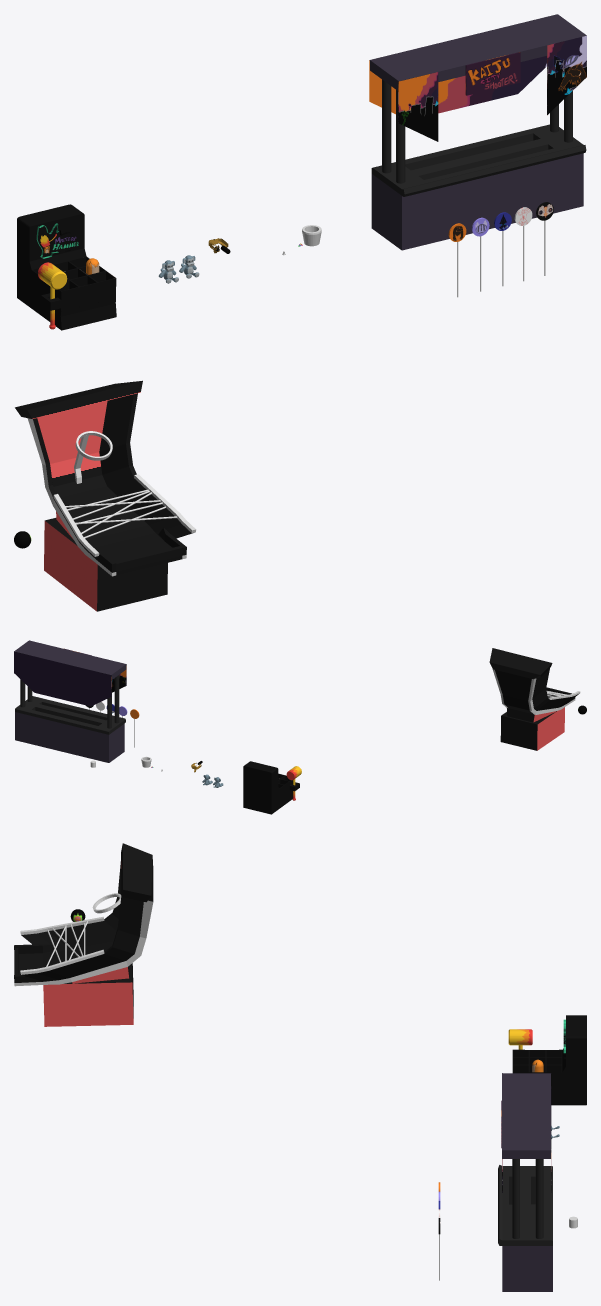
File: MOLE.fbx
The picture shows the model from 3 angles, top to bottom: view 1: azimuth 30°, elevation 25°; view 2: azimuth 150°, elevation 25°; view 3: azimuth 270°, elevation 25°; orthographic projection. The views are drawn at different scales.
Parts seen in each view (by area): view 1: Cube.011, Cube.024, Cube.010, Cube.013, Cube.025, Plane.003, Plane, Plane.001, Cube.014, Cube.026, Cylinder.005; view 2: Cube.011, Cube.024, Plane.003, Cube.010, Cube.013, Cube.026, Cylinder.004; view 3: Cube.024, Cube.011, Cube.013, Cube.025, Cube.010, Cube.026, Cylinder.002, Cylinder.003.
Part boxes in pixels (bbox=[...]): Cube.011: bbox=[371, 124, 586, 250]; Cube.024: bbox=[15, 380, 184, 611]; Cube.010: bbox=[17, 204, 116, 330]; Cube.013: bbox=[370, 14, 586, 90]; Cube.025: bbox=[99, 388, 192, 559]; Plane.003: bbox=[369, 56, 546, 114]; Plane: bbox=[398, 72, 438, 141]; Plane.001: bbox=[547, 35, 586, 115]; Cube.014: bbox=[465, 52, 520, 95]; Cube.026: bbox=[27, 418, 116, 576]; Cylinder.005: bbox=[382, 79, 391, 173]; Cube.011: bbox=[15, 696, 125, 762]; Cube.024: bbox=[489, 648, 571, 750]; Plane.003: bbox=[14, 651, 111, 706]; Cube.010: bbox=[243, 761, 299, 814]; Cube.013: bbox=[14, 640, 126, 679]; Cube.026: bbox=[528, 668, 579, 714]; Cylinder.004: bbox=[114, 675, 119, 723]; Cube.024: bbox=[14, 843, 153, 1026]; Cube.011: bbox=[498, 1165, 552, 1291]; Cube.013: bbox=[502, 1073, 550, 1158]; Cube.025: bbox=[14, 897, 153, 986]; Cube.010: bbox=[512, 1015, 586, 1105]; Cube.026: bbox=[14, 861, 121, 953]; Cylinder.002: bbox=[535, 1159, 543, 1238]; Cylinder.003: bbox=[512, 1159, 519, 1238].
Size of the model in its own units: 1533 by 344 by 1099.
